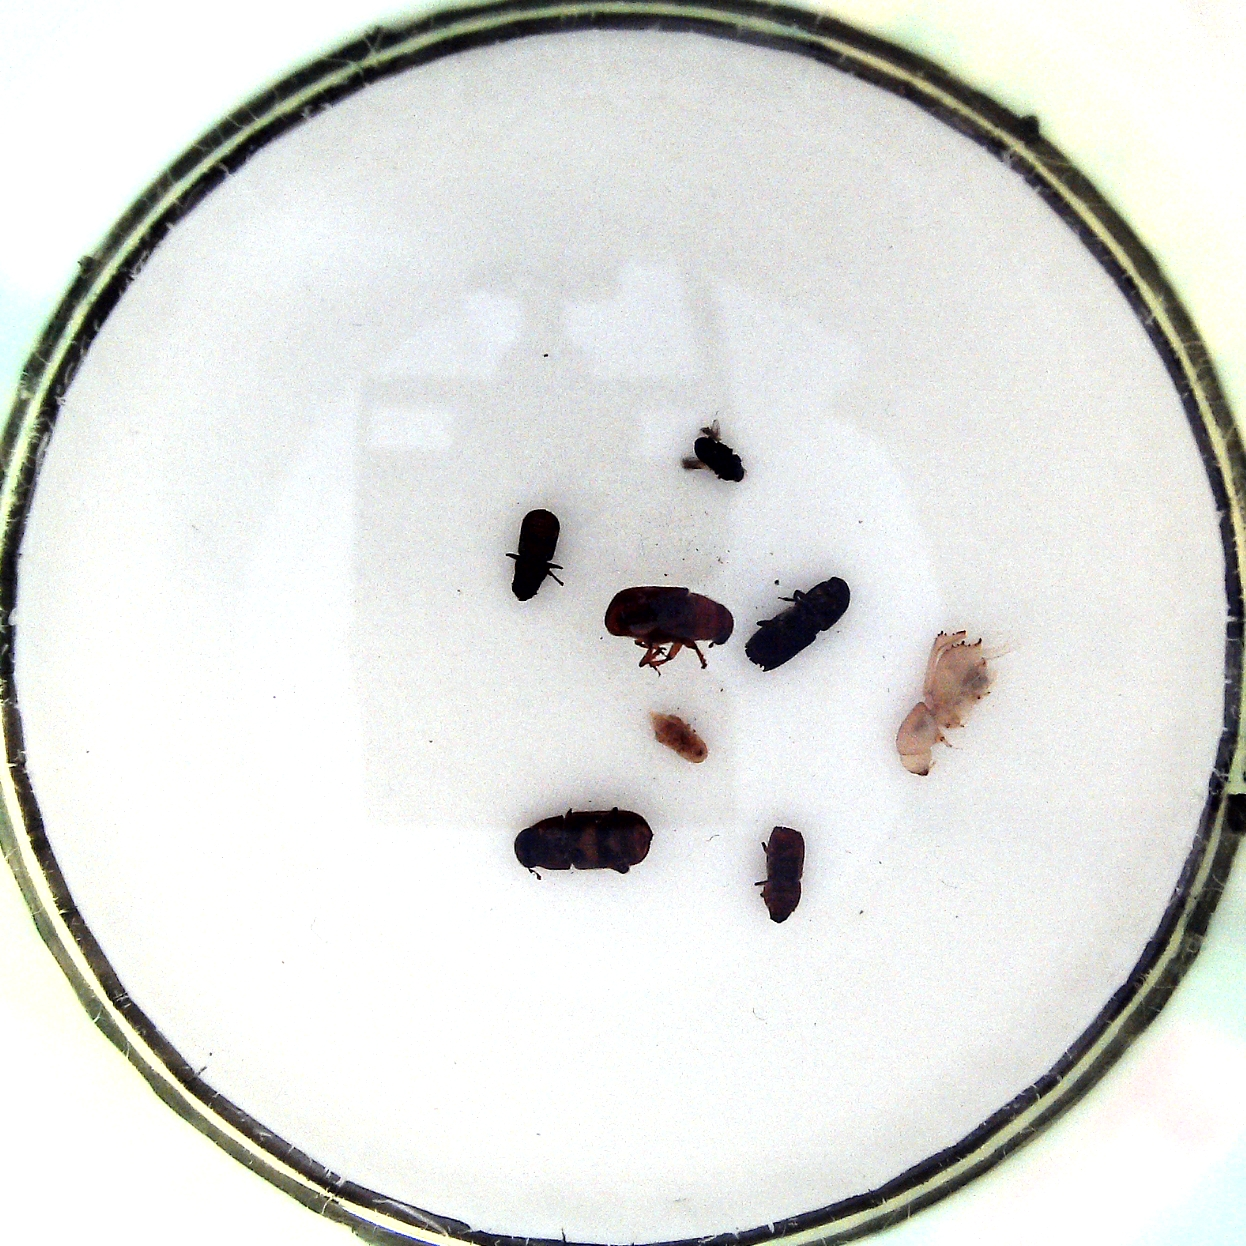Boerner: (895, 624, 1002, 775), (741, 576, 851, 671)
Leconte: (604, 581, 736, 675), (507, 806, 656, 881)
Linnaeus: (751, 824, 817, 924)
acuminatus: (646, 707, 710, 771)
armandi: (499, 505, 568, 608)
coleoptera: (677, 421, 750, 485)
